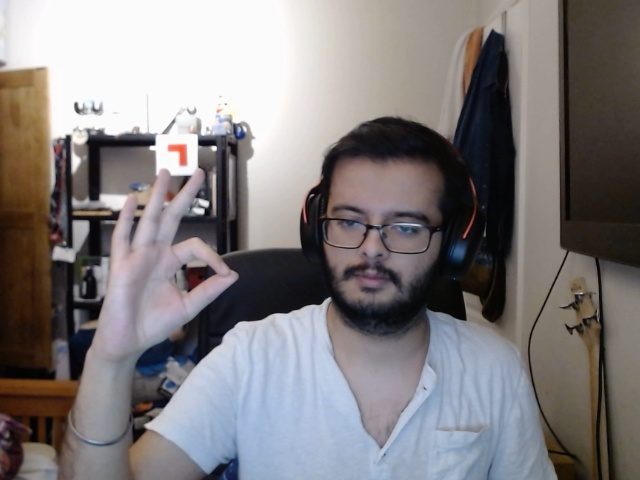Okay: (72, 165, 246, 365)
